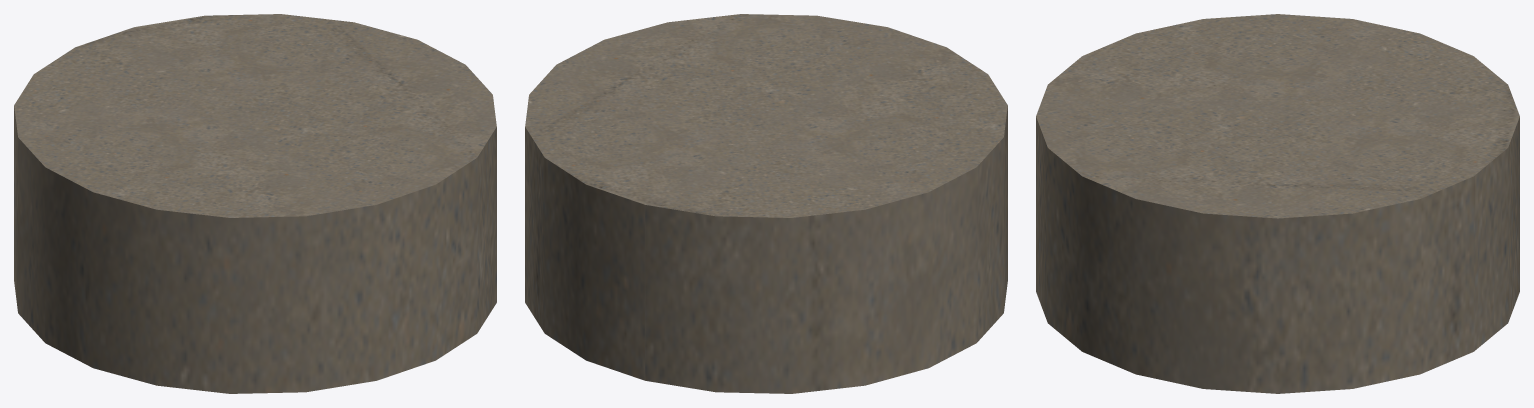
The model's file is Säule100B20H.fbx.
The picture shows the model from 3 angles, left to right: view 1: azimuth 30°, elevation 25°; view 2: azimuth 150°, elevation 25°; view 3: azimuth 270°, elevation 25°; orthographic projection.
Visible parts, largest first — view 1: Säule100B20H; view 2: Säule100B20H; view 3: Säule100B20H.
Part boxes in pixels (x1=…): Säule100B20H: x1=14, y1=14, x2=496, y2=393; Säule100B20H: x1=525, y1=14, x2=1007, y2=393; Säule100B20H: x1=1036, y1=14, x2=1519, y2=393.
Bounding box in the file's own units: 50 × 20 × 50.
